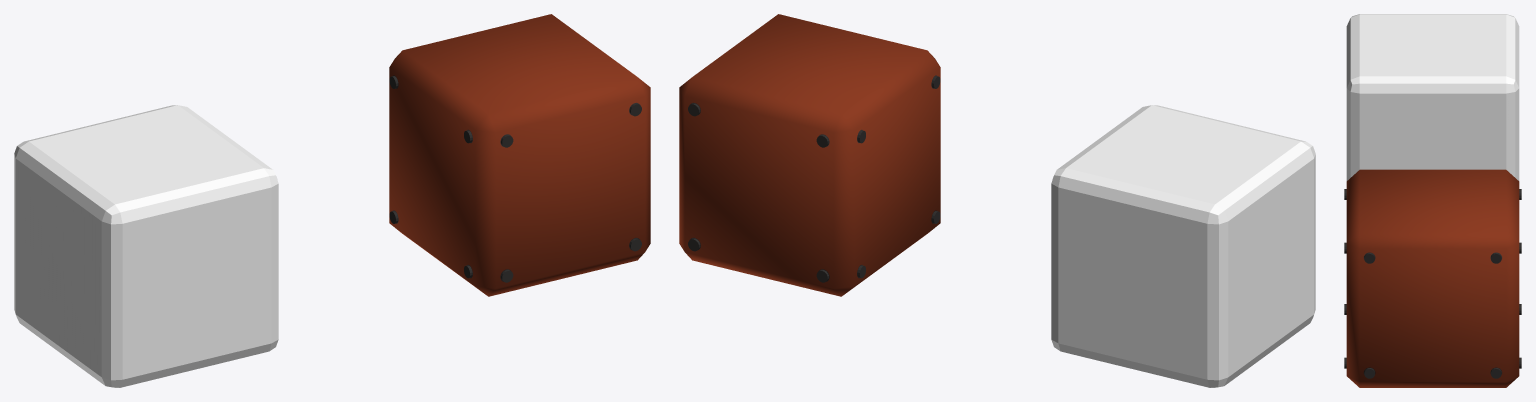
Rendered from SolidBlock.glb.
3 views of the same model, side by side, from view 1: azimuth 30°, elevation 25°; view 2: azimuth 150°, elevation 25°; view 3: azimuth 270°, elevation 25° (orthographic). The views are drawn at different scales.
Parts seen in each view (by area): view 1: Cube, Cube.001; view 2: Cube, Cube.001; view 3: Cube.001, Cube.
Part boxes in pixels (x1,y1,x2,y2): Cube: (14,105,278,387); Cube.001: (389,14,650,296); Cube: (1051,105,1315,387); Cube.001: (679,14,940,296); Cube.001: (1346,169,1519,387); Cube: (1346,14,1519,180).
Size of the model in its own units: 6.29 by 2 by 2.06.
4 materials, 2 textured.
